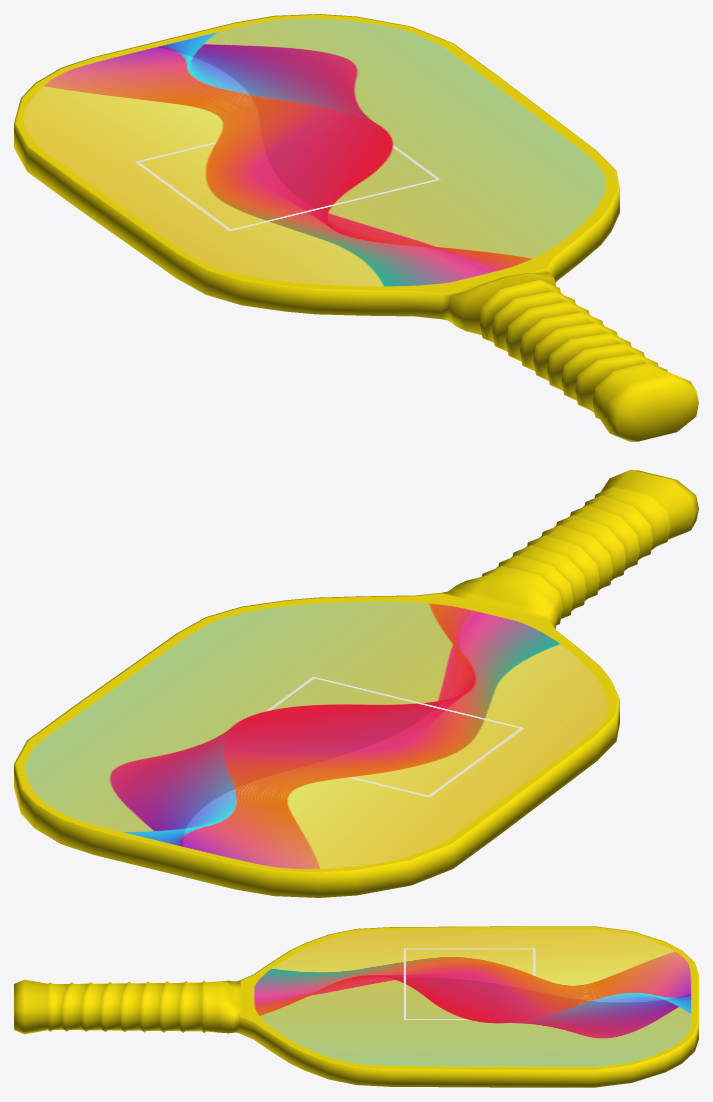
The model's file is Racket_Pickelball7.fbx.
3 views of the same model, one above another, from view 1: azimuth 30°, elevation 25°; view 2: azimuth 150°, elevation 25°; view 3: azimuth 270°, elevation 25° (orthographic). The views are drawn at different scales.
Visible parts, largest first — view 1: Racket_Pickelball7; view 2: Racket_Pickelball7; view 3: Racket_Pickelball7.
Boxes of the visible parts, <box> form: Racket_Pickelball7: <box>14,14,698,441</box>; Racket_Pickelball7: <box>14,470,698,897</box>; Racket_Pickelball7: <box>14,926,698,1087</box>.
Bounding box in the file's own units: 8.1 × 1.07 × 16.24.
Materials: 1 (1 with a texture image).
